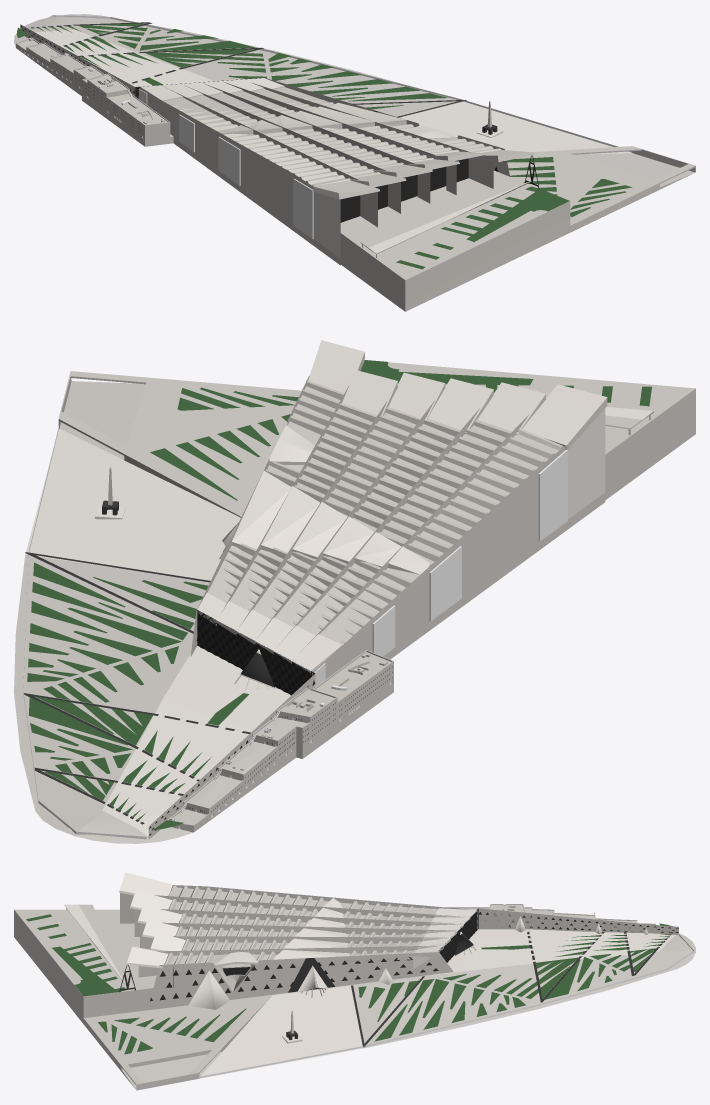
Rendered from 20250702_museum_for_mb4.glb.
3 renders of one model, top to bottom at view 1: azimuth 30°, elevation 25°; view 2: azimuth 150°, elevation 25°; view 3: azimuth 270°, elevation 25°, orthographic. The views are drawn at different scales.
Visible parts, largest first — view 1: Plane.017, Plane.010, Plane.018, Plane.049, Plane.011, Plane.079, Plane.002, Plane.083, Plane.012, Plane.075, Plane.005, Plane.050 (+3 smaller); view 2: Plane.017, Plane.018, Plane.049, Plane.010, Plane.079, Plane.002, Plane.012, Plane.011, Plane.005, Plane.068, Plane.080, Plane.075 (+5 smaller); view 3: Plane.017, Plane.075, Plane.018, Plane.011, Plane.049, Plane.079, Plane.002, Plane.053, Plane.083, Plane.005, Plane.010, Plane.050 (+7 smaller).
Part boxes in pixels (<box>): Plane.017: <box>14,14,695,311</box>; Plane.010: <box>138,88,539,265</box>; Plane.018: <box>165,95,501,186</box>; Plane.049: <box>140,78,534,199</box>; Plane.011: <box>171,82,493,227</box>; Plane.079: <box>16,23,447,109</box>; Plane.002: <box>16,37,170,139</box>; Plane.083: <box>396,186,569,269</box>; Plane.012: <box>164,87,334,126</box>; Plane.075: <box>20,24,509,176</box>; Plane.005: <box>507,157,632,216</box>; Plane.050: <box>28,15,631,152</box>; Plane.017: <box>14,362,695,843</box>; Plane.018: <box>223,380,563,643</box>; Plane.049: <box>197,340,607,672</box>; Plane.010: <box>312,408,605,686</box>; Plane.079: <box>27,562,208,830</box>; Plane.002: <box>167,650,393,832</box>; Plane.012: <box>207,545,405,645</box>; Plane.011: <box>221,385,529,652</box>; Plane.005: <box>150,387,298,500</box>; Plane.068: <box>197,610,314,695</box>; Plane.080: <box>24,552,250,824</box>; Plane.075: <box>148,376,315,839</box>; Plane.017: <box>14,904,695,1090</box>; Plane.075: <box>147,908,678,1010</box>; Plane.018: <box>163,885,435,967</box>; Plane.011: <box>120,893,465,981</box>; Plane.049: <box>119,872,476,968</box>; Plane.079: <box>358,923,672,1041</box>; Plane.002: <box>446,904,659,933</box>; Plane.053: <box>188,916,648,1009</box>; Plane.083: <box>26,914,126,996</box>; Plane.005: <box>98,1008,246,1054</box>; Plane.010: <box>119,885,477,992</box>; Plane.050: <box>199,934,694,1078</box>.
Size of the model in its own units: 443 by 79.65 by 774.
